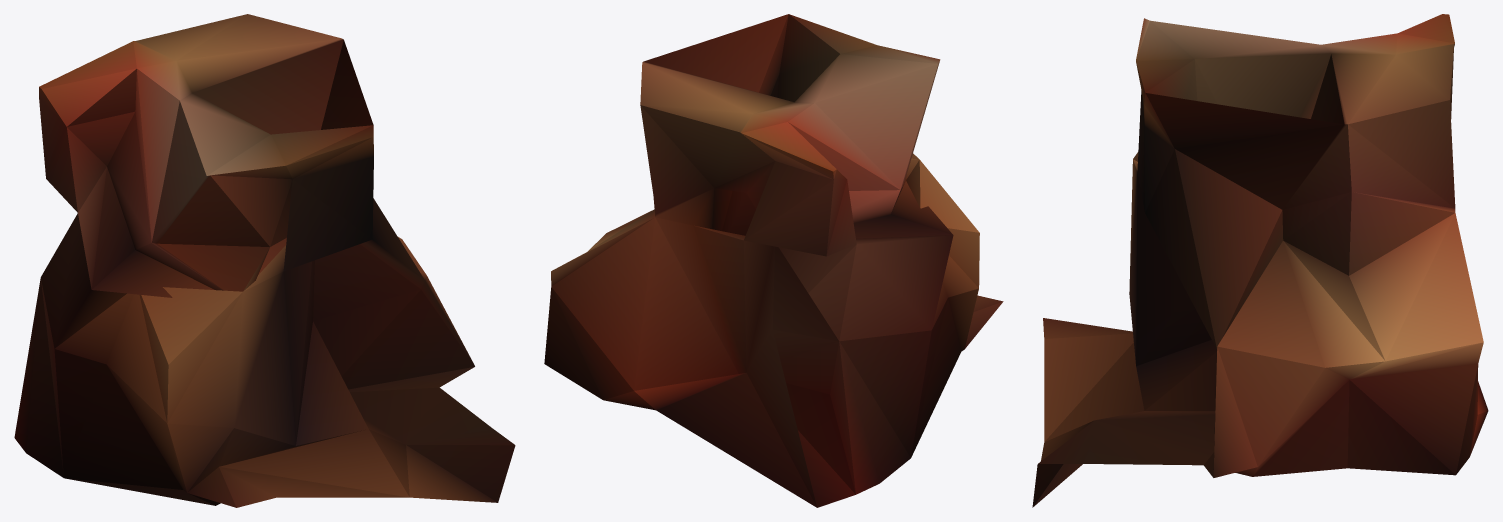
3 renders of one model, left to right at view 1: azimuth 30°, elevation 25°; view 2: azimuth 150°, elevation 25°; view 3: azimuth 270°, elevation 25°, orthographic. The views are drawn at different scales.
Size of the model in its own units: 1.09 by 1.1 by 1.1.
